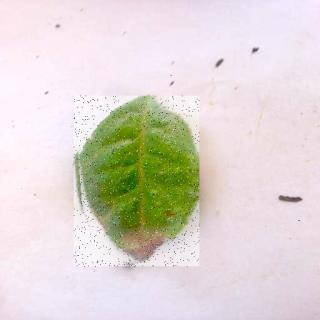Brown Blight: (75, 98, 200, 269)
